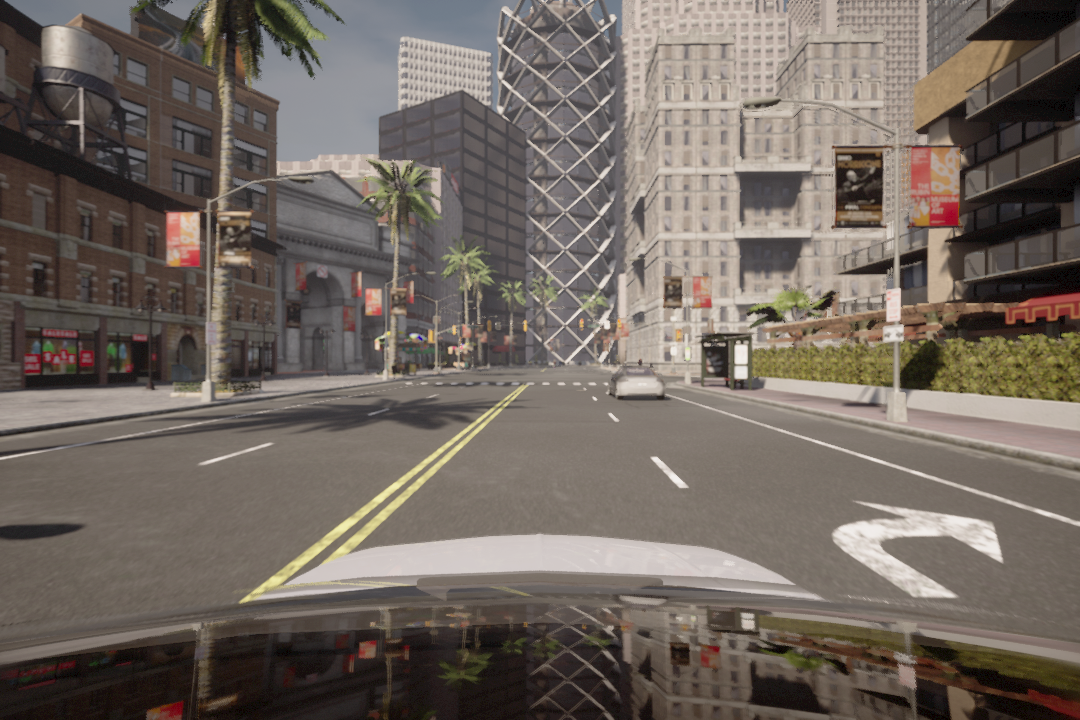RoadSign_right: (814, 491, 1031, 607)
walkside: (399, 380, 618, 388)
